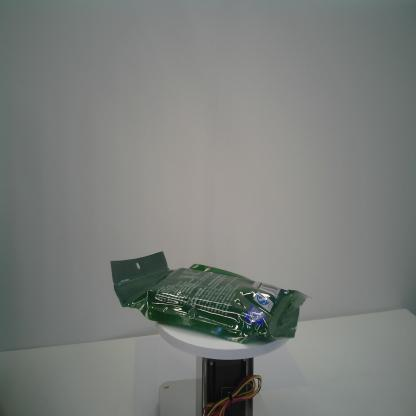Dried Food: (111, 250, 312, 344)
